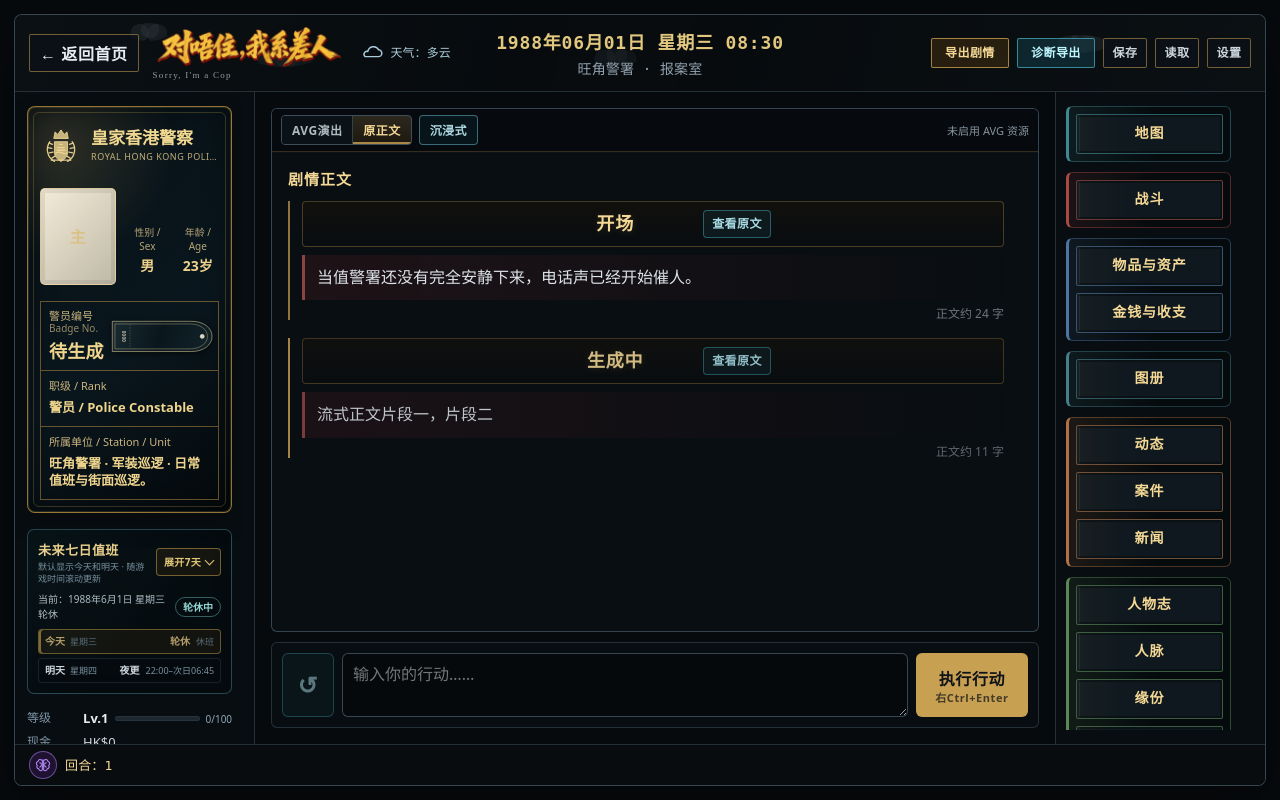
GameScreen diagnostics › builds the diagnostic only after the export modal is opened
What coordinates should you click on to do the following:
click the button "诊断导出"
I would click on:
 (1056, 53)
Its box is [1017,38,1095,68].
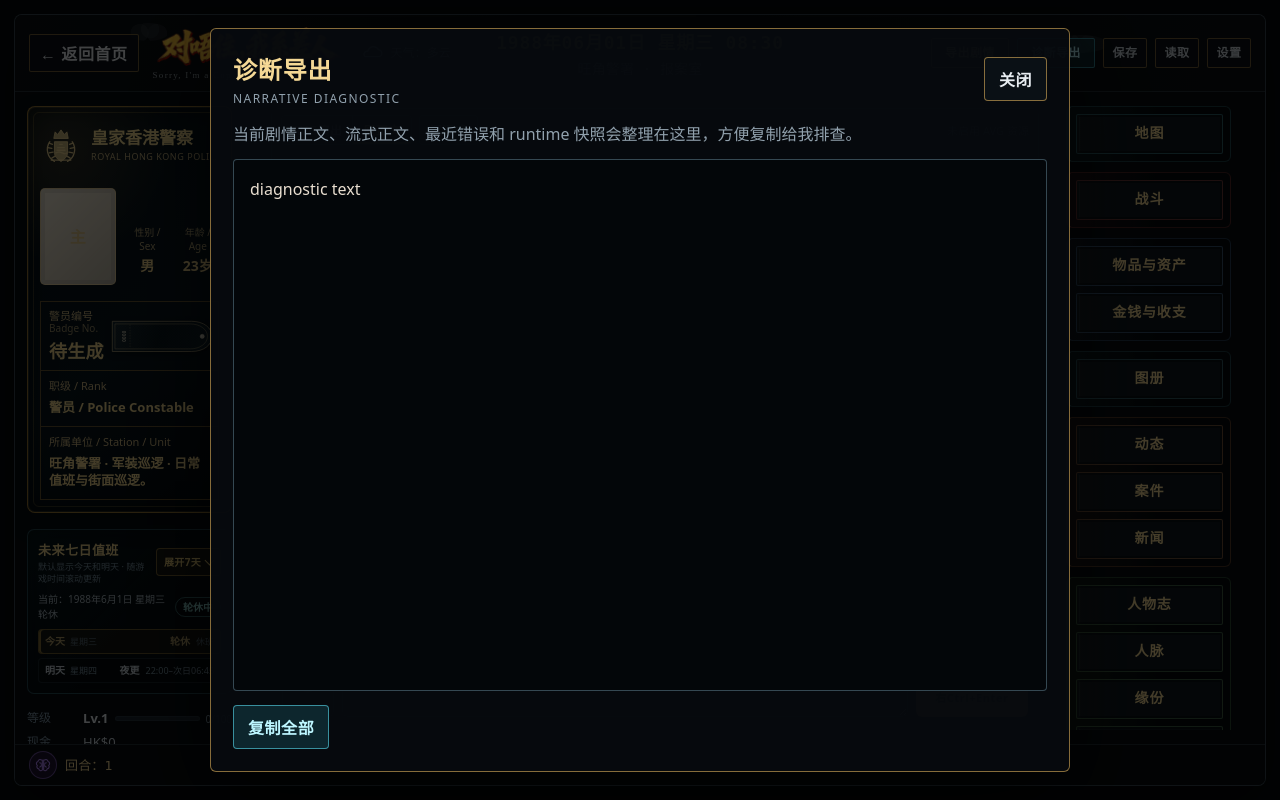
Result: the text box "diagnostic text" is shown at [233,159,1047,691]
